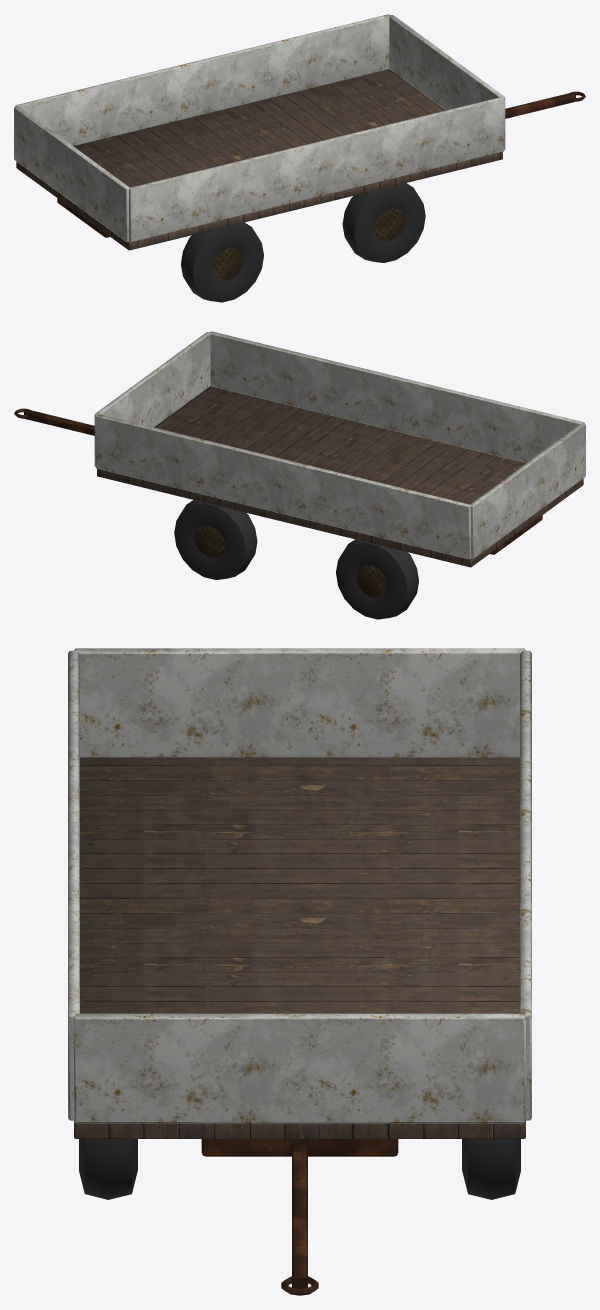
File: veh_trailer.gltf
The picture shows the model from 3 angles, top to bottom: view 1: azimuth 30°, elevation 25°; view 2: azimuth 150°, elevation 25°; view 3: azimuth 270°, elevation 25°; orthographic projection. The views are drawn at different scales.
Parts seen in each view (by area): view 1: box.001, box.002, box.003, box.004, box.005, torus.002, torus, cyl.002, cyl, box.006; view 2: box.001, box.003, box.002, box.004, box.005, torus.003, torus.001, cyl.003, cyl.001, box.006; view 3: box.001, box.005, box.004, box.002, box.003, box, torus, torus.001, box.006.
Boxes of the visible parts, x1=… form: box.001: x1=16, y1=69, x2=502, y2=250; box.002: x1=129, y1=97, x2=504, y2=242; box.003: x1=15, y1=14, x2=389, y2=145; box.004: x1=14, y1=106, x2=129, y2=241; box.005: x1=389, y1=15, x2=505, y2=149; torus.002: x1=181, y1=222, x2=263, y2=302; torus: x1=342, y1=183, x2=425, y2=262; cyl.002: x1=213, y1=248, x2=243, y2=280; cyl: x1=374, y1=208, x2=405, y2=240; box.006: x1=505, y1=92, x2=575, y2=118; box.001: x1=97, y1=386, x2=583, y2=567; box.003: x1=95, y1=414, x2=470, y2=559; box.002: x1=210, y1=331, x2=584, y2=462; box.004: x1=470, y1=423, x2=585, y2=558; box.005: x1=94, y1=332, x2=210, y2=466; torus.003: x1=336, y1=539, x2=418, y2=619; torus.001: x1=174, y1=500, x2=257, y2=579; cyl.003: x1=356, y1=565, x2=386, y2=597; cyl.001: x1=194, y1=525, x2=225, y2=557; box.006: x1=24, y1=409, x2=94, y2=435; box.001: x1=74, y1=757, x2=525, y2=1138; box.005: x1=74, y1=1013, x2=525, y2=1123; box.004: x1=74, y1=648, x2=525, y2=757; box.002: x1=68, y1=650, x2=79, y2=1120; box.003: x1=520, y1=650, x2=531, y2=1120; box: x1=201, y1=1139, x2=398, y2=1156; torus: x1=79, y1=1139, x2=137, y2=1199; torus.001: x1=462, y1=1139, x2=520, y2=1199; box.006: x1=292, y1=1144, x2=307, y2=1288.
Size of the model in its own units: 6.05 by 1.59 by 2.36.
5 materials, 4 textured.
